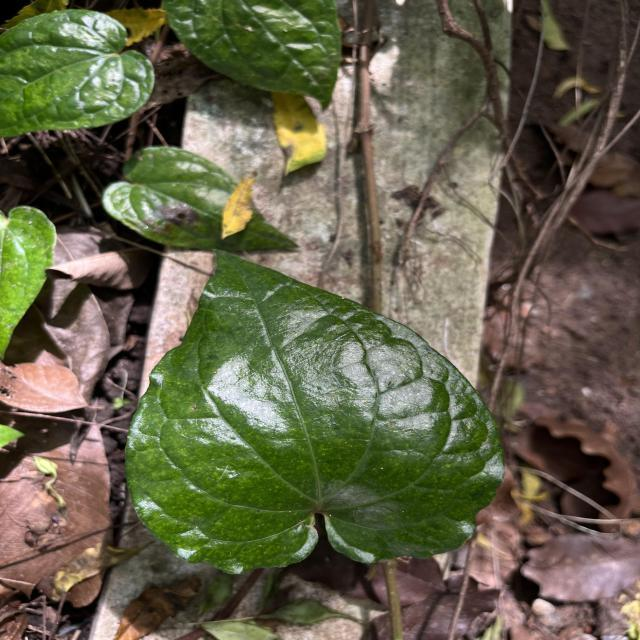Piper betle: (121, 244, 509, 576)
